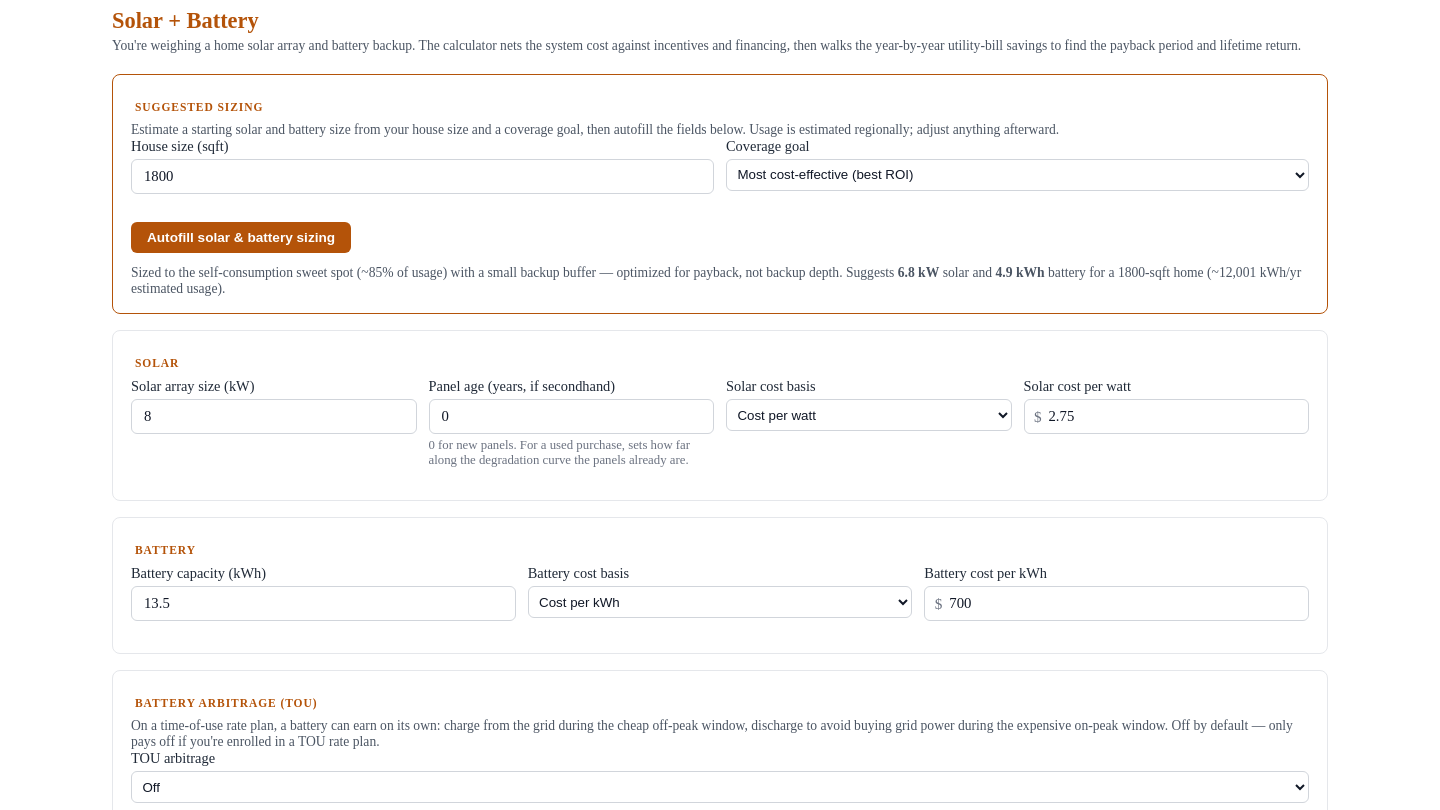
Test case: <SolarBatteryComponent /> › toggles battery cost input between per-kWh and total system cost
Expected: the number field labelled "Battery cost per kWh" is shown, [924,586,1309,621]
Expected: the field labelled "Total battery cost" is not shown
Select "Total system cost" in the dropdown labelled "Battery cost basis" at [720, 602], box [528,586,912,618]
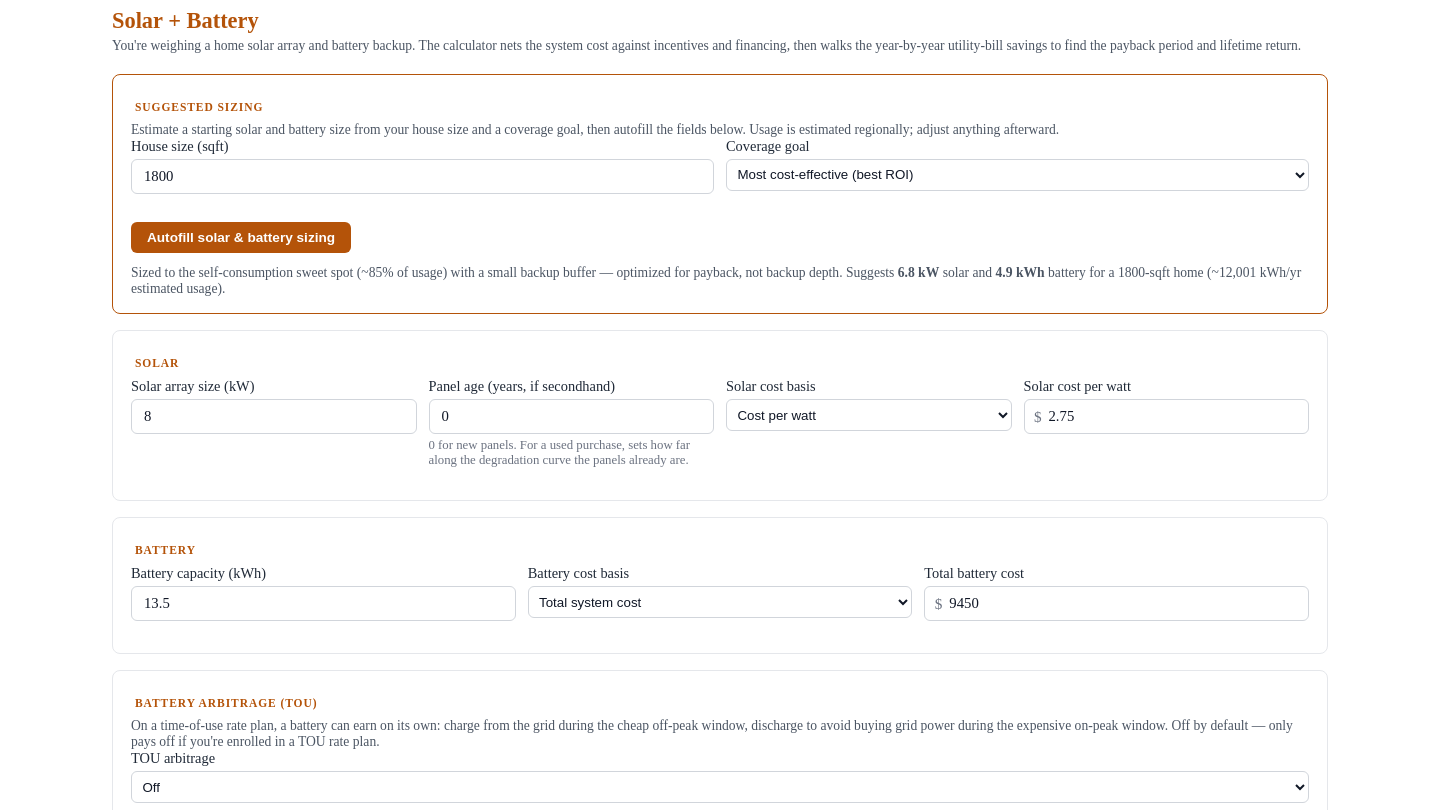
Expected: the number field labelled "Total battery cost" is shown, [924,586,1309,621]
Now the label labelled "Battery cost per kWh" is gone
